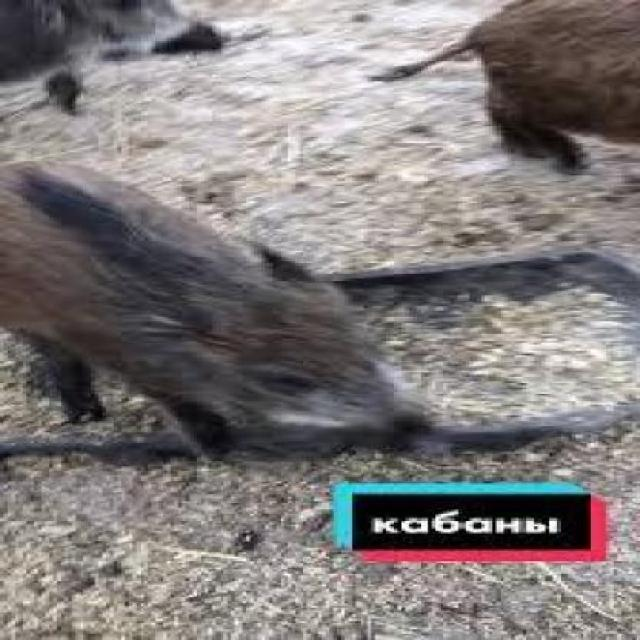wildboar: (0, 144, 438, 483), (352, 0, 640, 188)
